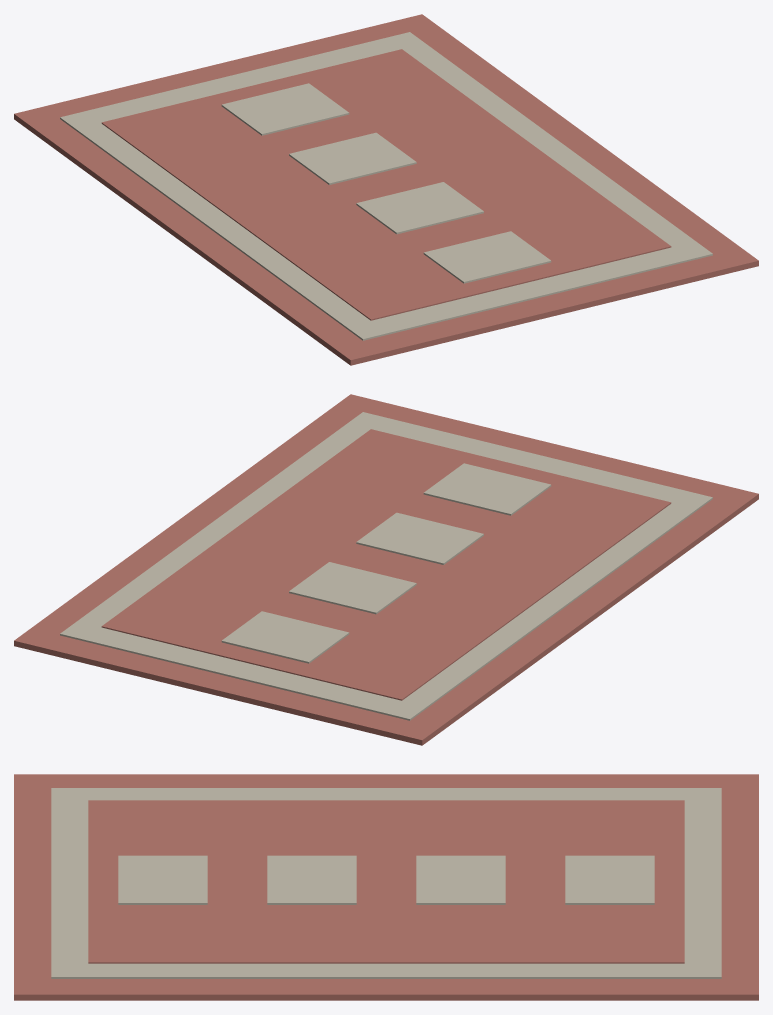
Rendered from rug_apartment.glb.
The picture shows the model from 3 angles, top to bottom: view 1: azimuth 30°, elevation 25°; view 2: azimuth 150°, elevation 25°; view 3: azimuth 270°, elevation 25°; orthographic projection. The views are drawn at different scales.
Visible parts, largest first — view 1: body; view 2: body; view 3: body.
Boxes of the visible parts, x1=… form: body: x1=14, y1=14, x2=758, y2=365; body: x1=14, y1=394, x2=758, y2=745; body: x1=14, y1=774, x2=758, y2=1000.
Size of the model in its own units: 1.4 by 0.033 by 2.
